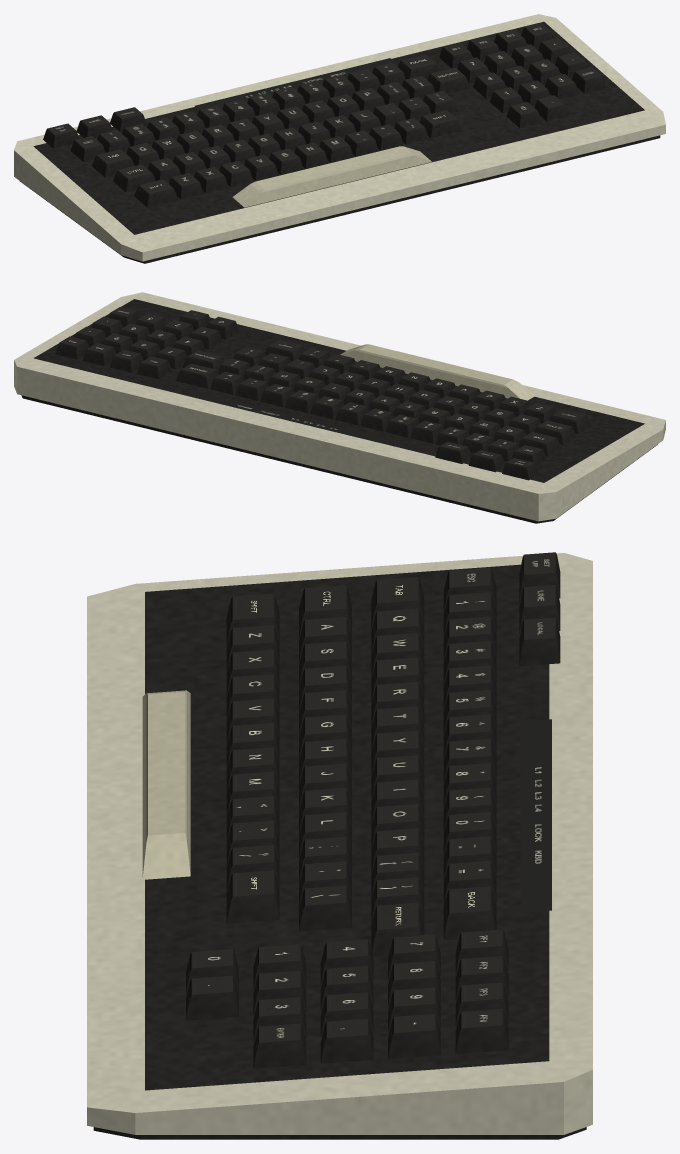
The model's file is vt100_keyboard.glb.
3 views of the same model, one above another, from view 1: azimuth 30°, elevation 25°; view 2: azimuth 150°, elevation 25°; view 3: azimuth 270°, elevation 25° (orthographic). The views are drawn at different scales.
Parts seen in each view (by area): view 1: VT100_MatchingKeyboard; view 2: VT100_MatchingKeyboard; view 3: VT100_MatchingKeyboard.
Part boxes in pixels (<box>): VT100_MatchingKeyboard: <box>14,14,665,263</box>; VT100_MatchingKeyboard: <box>14,292,665,523</box>; VT100_MatchingKeyboard: <box>87,552,592,1139</box>.
Size of the model in its own units: 0.52 by 0.0425 by 0.21.
1 material, 1 textured.
